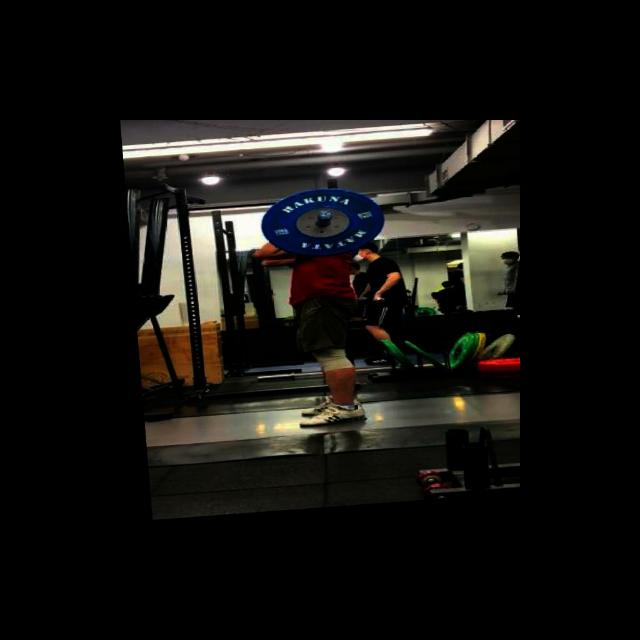barbell: (253, 185, 388, 265)
